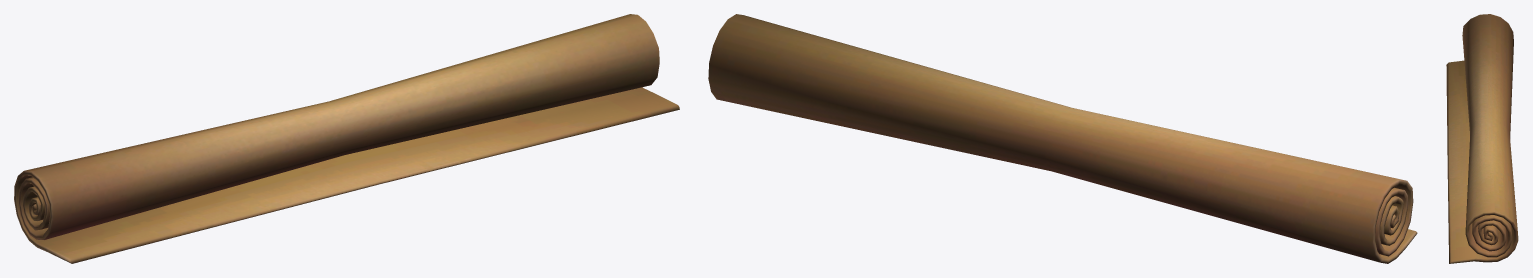
Rendered from SM_Paper_02.gltf.
3 renders of one model, left to right at view 1: azimuth 30°, elevation 25°; view 2: azimuth 150°, elevation 25°; view 3: azimuth 270°, elevation 25°, orthographic. The views are drawn at different scales.
Visible parts, largest first — view 1: SM_Paper_02; view 2: SM_Paper_02; view 3: SM_Paper_02.
Part boxes in pixels (left/top/right/bottom): SM_Paper_02: left=14, top=14, right=679, bottom=263; SM_Paper_02: left=708, top=14, right=1417, bottom=263; SM_Paper_02: left=1446, top=14, right=1518, bottom=263.
Bounding box in the file's own units: 0.3943 × 0.0476 × 0.0585.
Materials: 1 (1 with a texture image).
